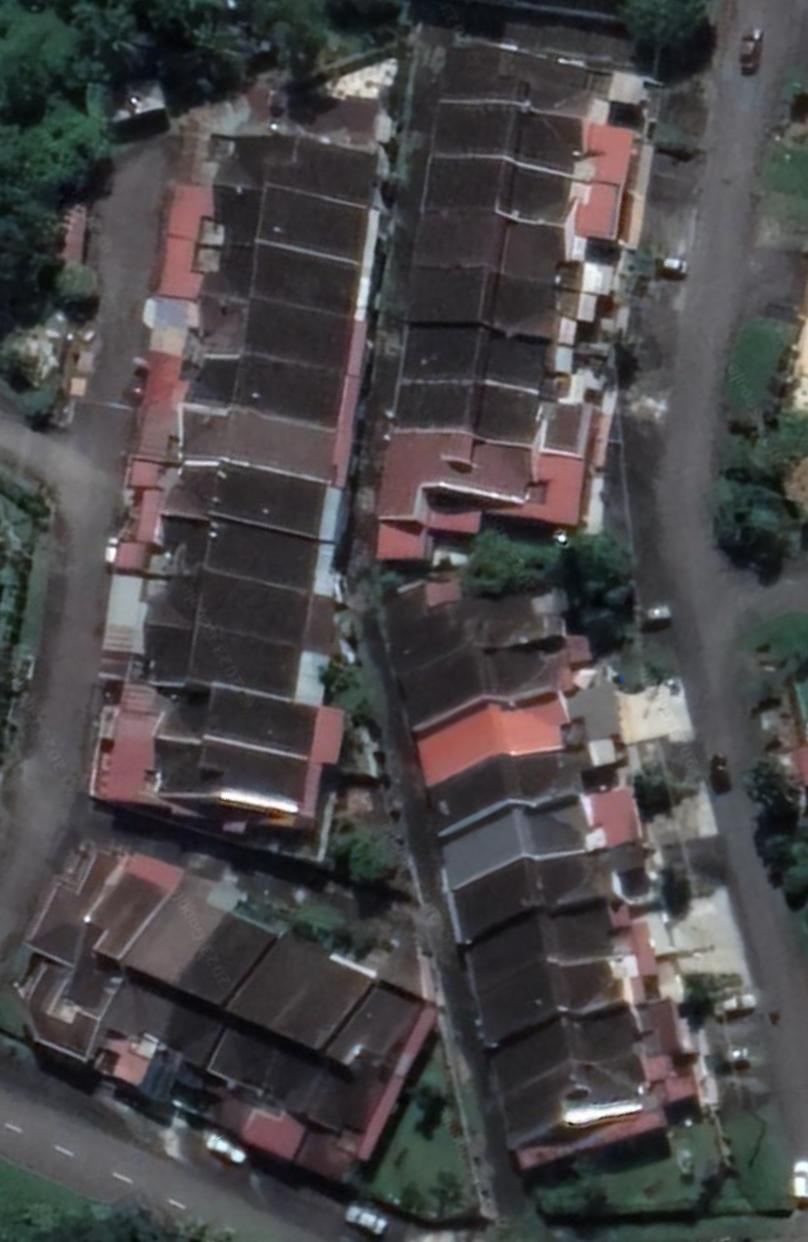building: (15, 825, 193, 1074), (92, 870, 249, 1096), (293, 975, 447, 1195), (140, 904, 292, 1124), (190, 924, 345, 1138), (367, 435, 604, 566), (241, 951, 386, 1165), (485, 1052, 714, 1184), (362, 563, 575, 678), (428, 777, 650, 885), (405, 677, 627, 783), (442, 838, 657, 943), (412, 732, 633, 834), (88, 686, 355, 770), (469, 953, 692, 1052), (107, 512, 343, 605), (97, 572, 346, 660), (125, 348, 360, 439), (435, 30, 663, 123), (478, 994, 698, 1089), (116, 457, 350, 546), (82, 745, 329, 828), (416, 151, 631, 244), (135, 293, 366, 378), (385, 631, 600, 721), (159, 183, 385, 268), (121, 406, 348, 490), (427, 95, 641, 183), (149, 239, 375, 322), (388, 374, 605, 459), (92, 630, 336, 705), (455, 902, 661, 990), (192, 126, 392, 215), (406, 217, 624, 295), (395, 325, 613, 401), (400, 272, 615, 349)
